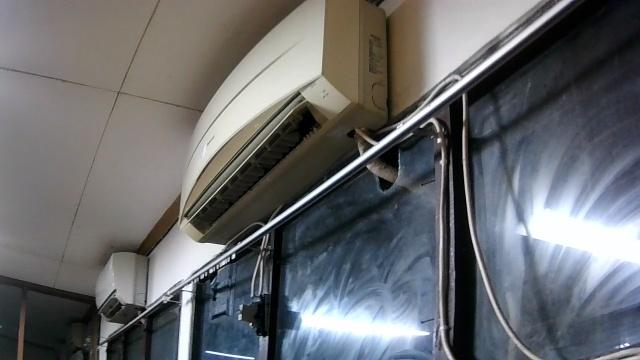AC: (176, 0, 390, 244), (93, 250, 148, 324)
